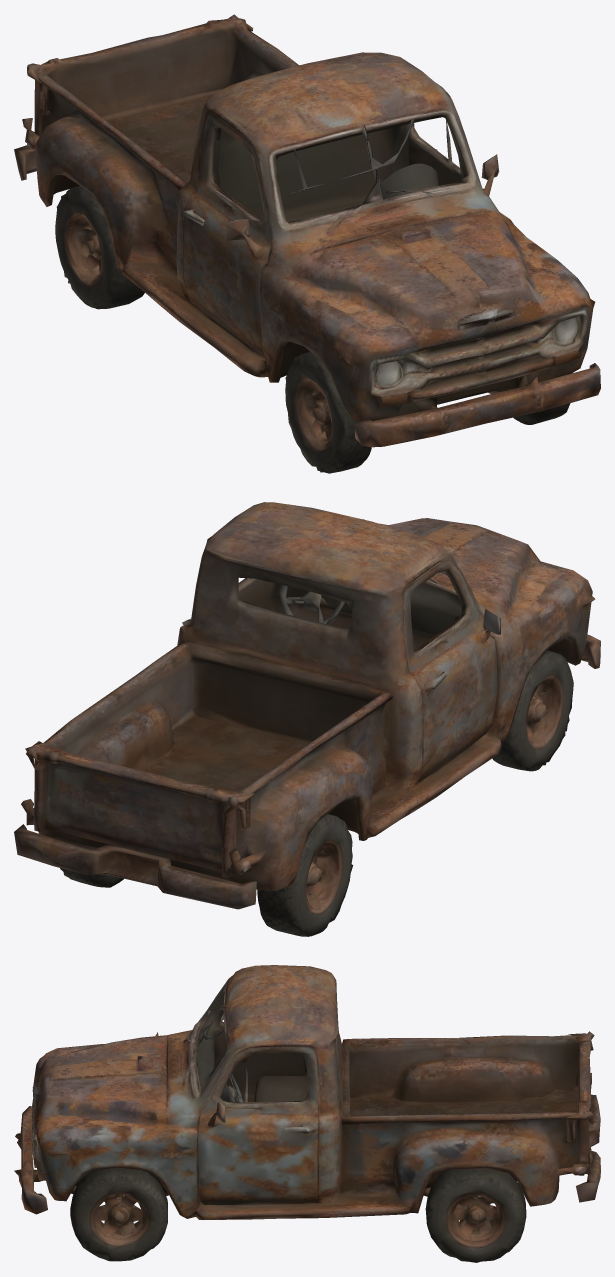
Rendered from pickup_truck.glb.
3 views of the same model, one above another, from view 1: azimuth 30°, elevation 25°; view 2: azimuth 150°, elevation 25°; view 3: azimuth 270°, elevation 25° (orthographic). The views are drawn at different scales.
Visible parts, largest first — view 1: tripo_node_24e6e84f-29d5-4e44-a9e2-db2a8f536a9c; view 2: tripo_node_24e6e84f-29d5-4e44-a9e2-db2a8f536a9c; view 3: tripo_node_24e6e84f-29d5-4e44-a9e2-db2a8f536a9c.
Part boxes in pixels (box(x1,y1,x2,y2)): tripo_node_24e6e84f-29d5-4e44-a9e2-db2a8f536a9c: box(14, 14, 600, 473); tripo_node_24e6e84f-29d5-4e44-a9e2-db2a8f536a9c: box(14, 502, 600, 936); tripo_node_24e6e84f-29d5-4e44-a9e2-db2a8f536a9c: box(14, 965, 600, 1262).
Bounding box in the file's own units: 0.4274 × 0.4263 × 1.
1 material, 1 textured.
